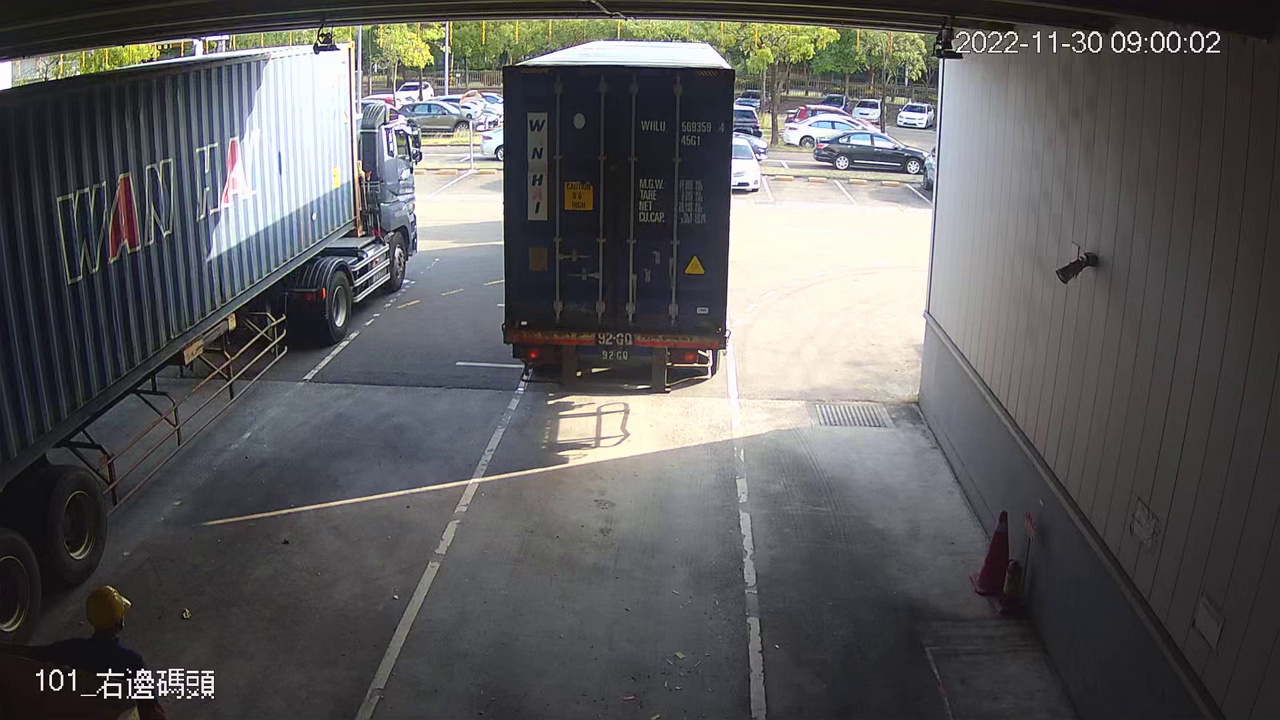container: (634, 113, 727, 152)
